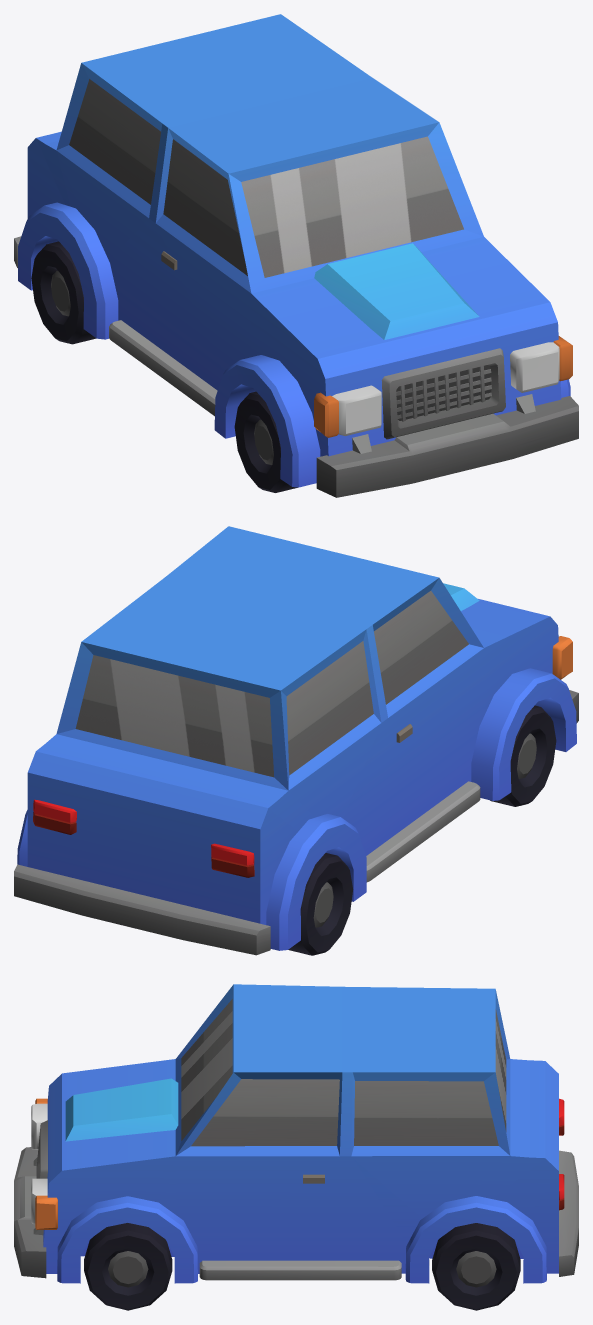
Rendered from Car_3_16.glb.
3 renders of one model, top to bottom at view 1: azimuth 30°, elevation 25°; view 2: azimuth 150°, elevation 25°; view 3: azimuth 270°, elevation 25°, orthographic. The views are drawn at different scales.
Visible parts, largest first — view 1: Car_3_16, Wheel_Br, Wheel_Fr; view 2: Car_3_16, Wheel_Br, Wheel_Fr; view 3: Car_3_16, Wheel_Bl, Wheel_Fl.
Boxes of the visible parts, <box> form: Car_3_16: <box>14,14,578,497</box>; Wheel_Br: <box>31,241,96,344</box>; Wheel_Fr: <box>234,391,297,492</box>; Car_3_16: <box>14,526,578,955</box>; Wheel_Br: <box>288,853,353,955</box>; Wheel_Fr: <box>490,705,556,806</box>; Car_3_16: <box>14,984,578,1283</box>; Wheel_Bl: <box>432,1223,520,1310</box>; Wheel_Fl: <box>84,1223,172,1310</box>.
Bounding box in the file's own units: 1.13 × 1.02 × 2.3.
Materials: 6 (6 with a texture image).
